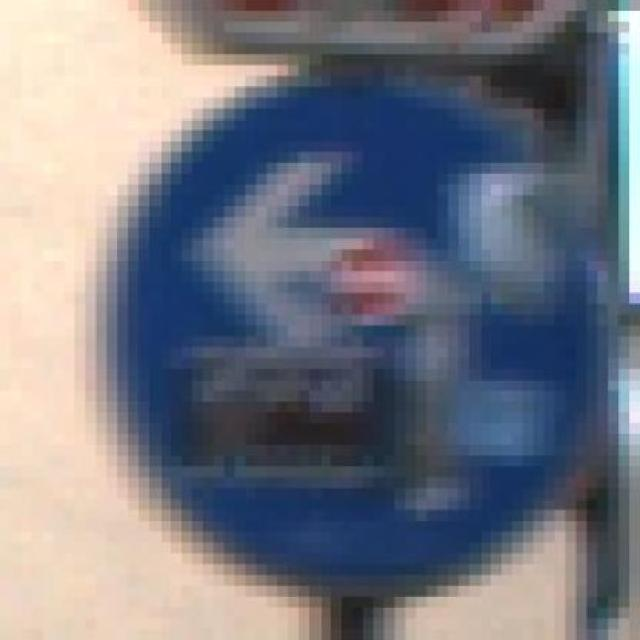Turn left ahead: (86, 86, 620, 597)
